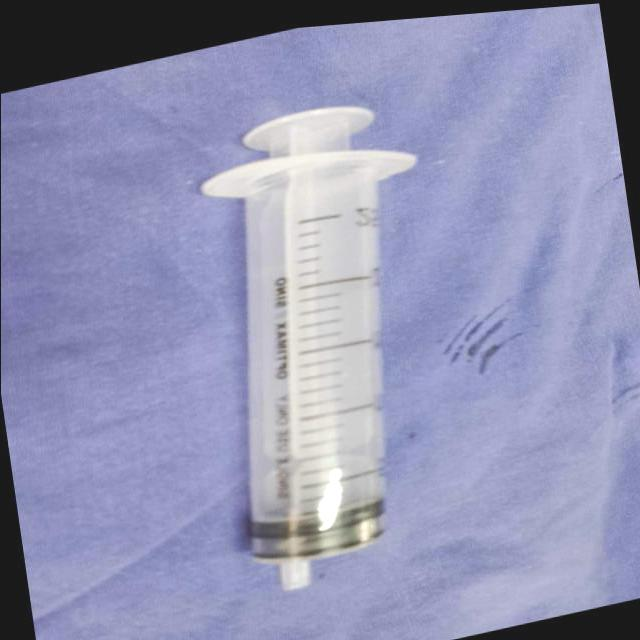Sharps: (199, 105, 419, 593)
